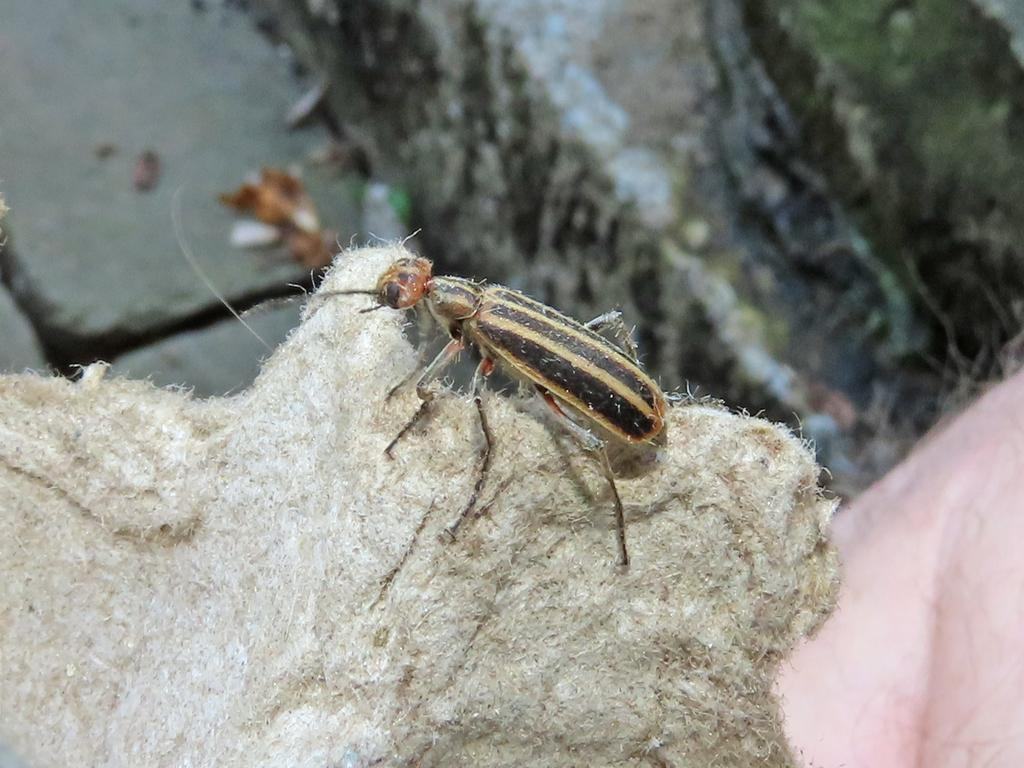blister_beetle: (217, 171, 796, 579)
